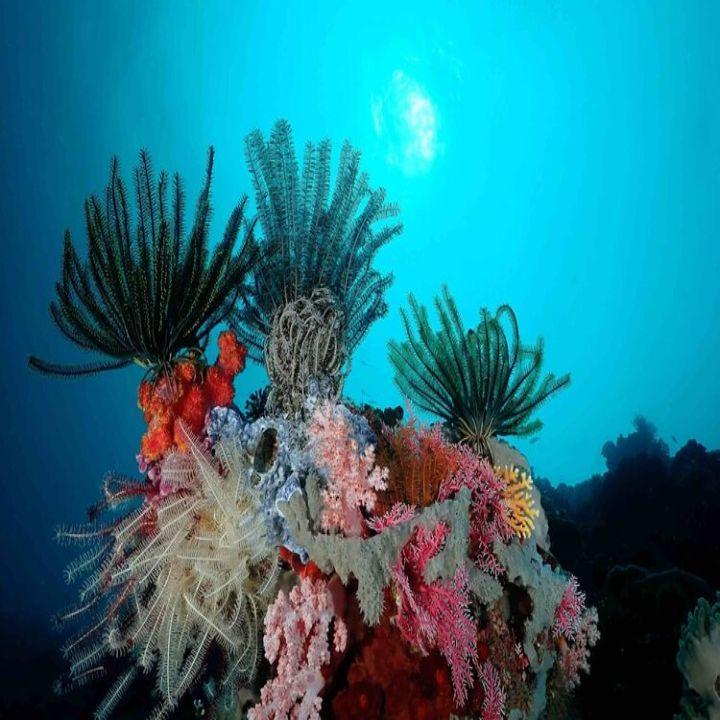Healthy Coral: (30, 78, 601, 699)
